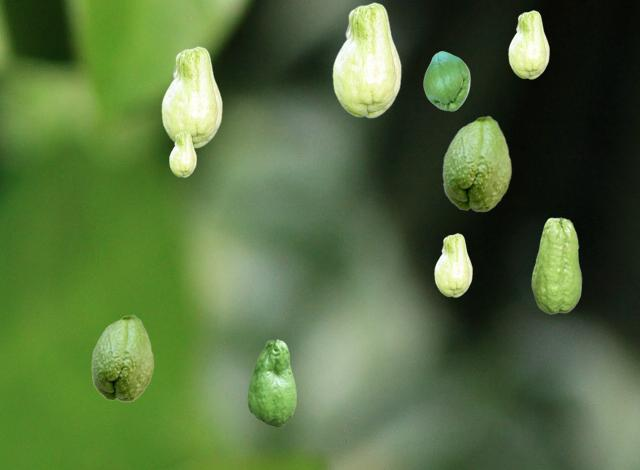sayote: (332, 2, 400, 117), (442, 115, 511, 211), (161, 46, 221, 147), (91, 314, 153, 401), (531, 217, 581, 313), (247, 339, 295, 426), (508, 10, 548, 78), (423, 51, 469, 110), (434, 233, 471, 296), (169, 131, 195, 176)
